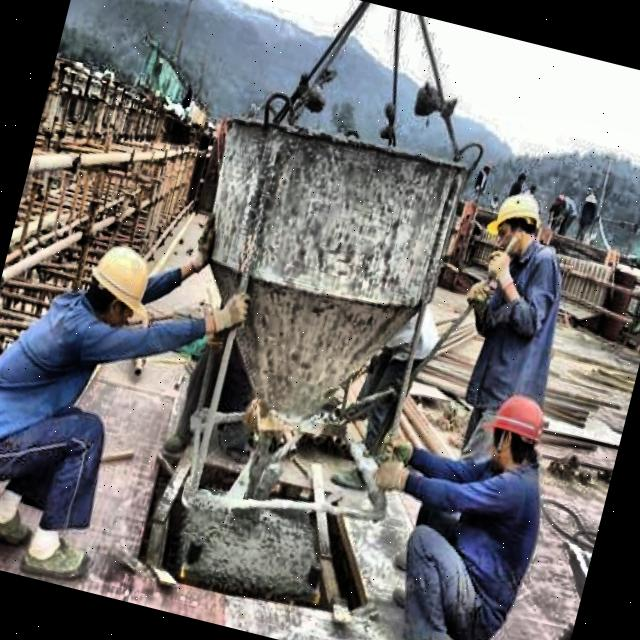helmet: (76, 230, 165, 340), (476, 381, 558, 482), (482, 185, 548, 268)
